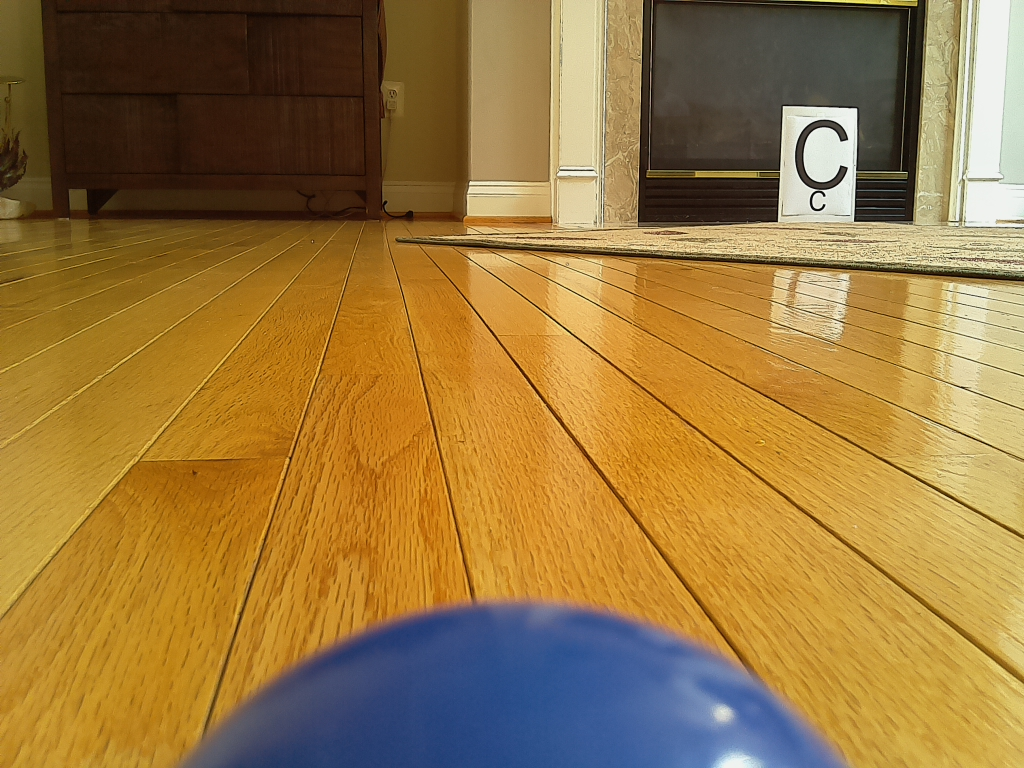letter: (796, 120, 849, 191)
